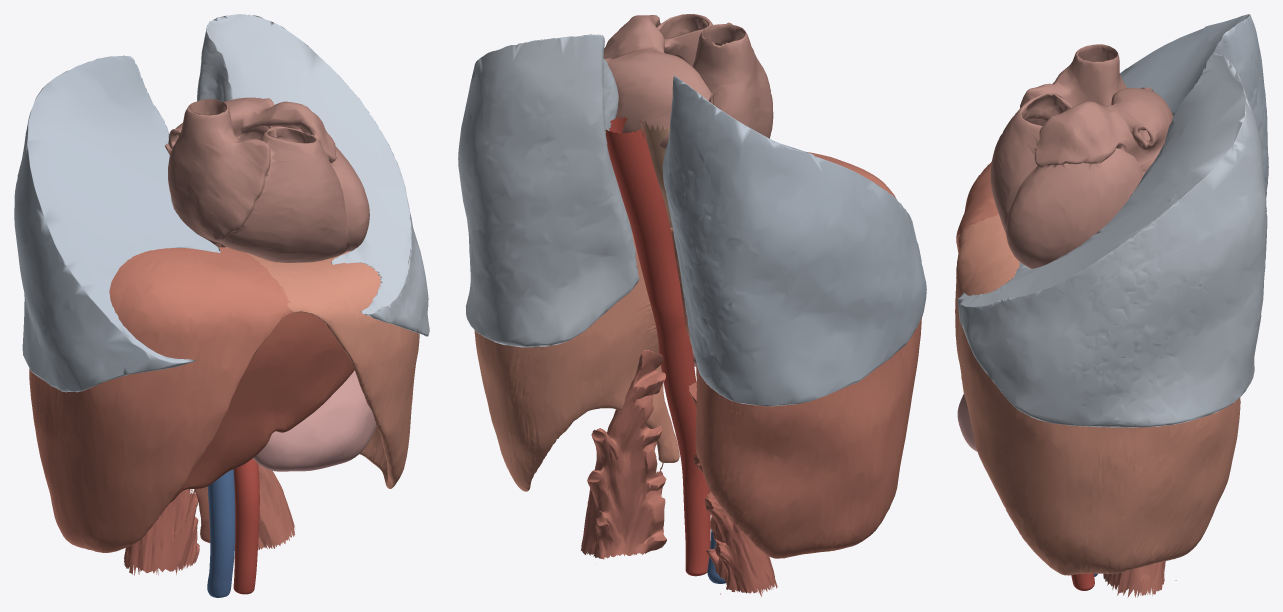
Rendered from diaphragm.glb.
The picture shows the model from 3 angles, left to right: view 1: azimuth 30°, elevation 25°; view 2: azimuth 150°, elevation 25°; view 3: azimuth 270°, elevation 25°; orthographic projection. The views are drawn at different scales.
Visible parts, largest first — view 1: right-hemidiaphragm, right-lung-lower-lobe, heart, left-lung-lower-lobe, left-hemidiaphragm, liver, stomach, right-psoas-major, descending-aorta, inferior-vena-cava, left-psoas-major; view 2: right-lung-lower-lobe, left-lung-lower-lobe, right-hemidiaphragm, left-hemidiaphragm, heart, descending-aorta, left-psoas-major, right-psoas-major, esophagus; view 3: left-lung-lower-lobe, left-hemidiaphragm, heart, right-lung-lower-lobe, right-hemidiaphragm, left-psoas-major, stomach.
Boxes of the visible parts, left/top/right/bottom form: right-hemidiaphragm: left=29, top=247, right=293, bottom=552; right-lung-lower-lobe: left=14, top=55, right=220, bottom=392; heart: left=164, top=97, right=369, bottom=262; left-lung-lower-lobe: left=197, top=14, right=429, bottom=336; left-hemidiaphragm: left=246, top=251, right=419, bottom=488; liver: left=170, top=312, right=354, bottom=502; stomach: left=253, top=370, right=376, bottom=471; right-psoas-major: left=124, top=489, right=199, bottom=575; descending-aorta: left=233, top=458, right=259, bottom=594; inferior-vena-cava: left=207, top=469, right=235, bottom=597; left-psoas-major: left=258, top=464, right=294, bottom=549; right-lung-lower-lobe: left=662, top=75, right=926, bottom=406; left-lung-lower-lobe: left=458, top=34, right=639, bottom=347; right-hemidiaphragm: left=679, top=152, right=921, bottom=558; left-hemidiaphragm: left=474, top=227, right=691, bottom=491; heart: left=603, top=14, right=773, bottom=150; descending-aorta: left=605, top=114, right=710, bottom=576; left-psoas-major: left=581, top=350, right=666, bottom=559; right-psoas-major: left=688, top=381, right=777, bottom=597; esophagus: left=641, top=121, right=672, bottom=228; left-lung-lower-lobe: left=957, top=53, right=1267, bottom=427; left-hemidiaphragm: left=955, top=214, right=1240, bottom=575; heart: left=990, top=44, right=1173, bottom=268; right-lung-lower-lobe: left=1120, top=14, right=1268, bottom=198; right-hemidiaphragm: left=956, top=162, right=998, bottom=254; left-psoas-major: left=1103, top=561, right=1176, bottom=597; stomach: left=957, top=394, right=977, bottom=451.
Size of the model in its own units: 4.05 by 5.57 by 2.89.
